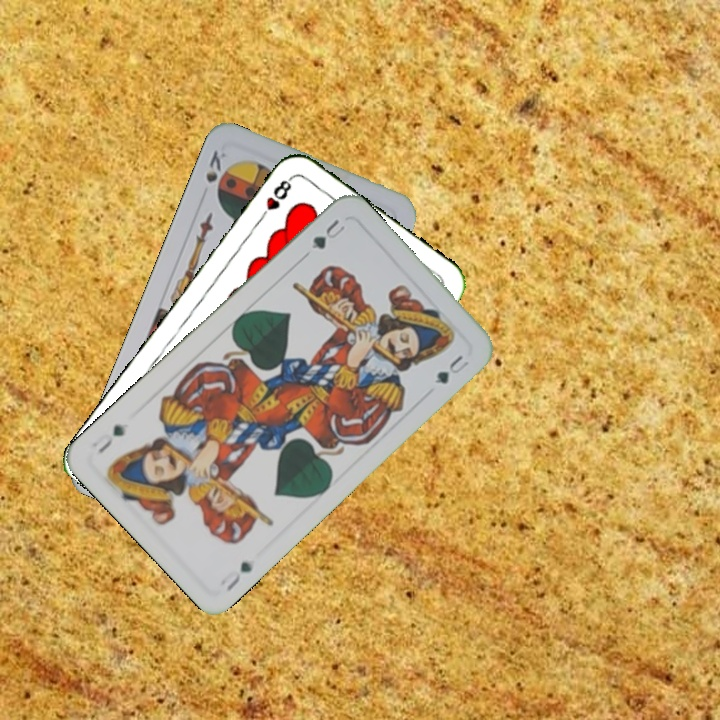GU: (307, 215, 350, 252), (221, 557, 255, 594)
H8: (255, 173, 295, 224)
SK: (201, 146, 229, 185)
